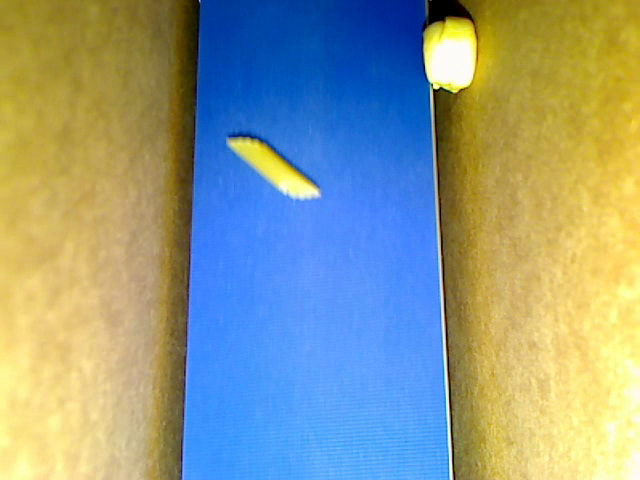penne: (226, 136, 320, 198)
